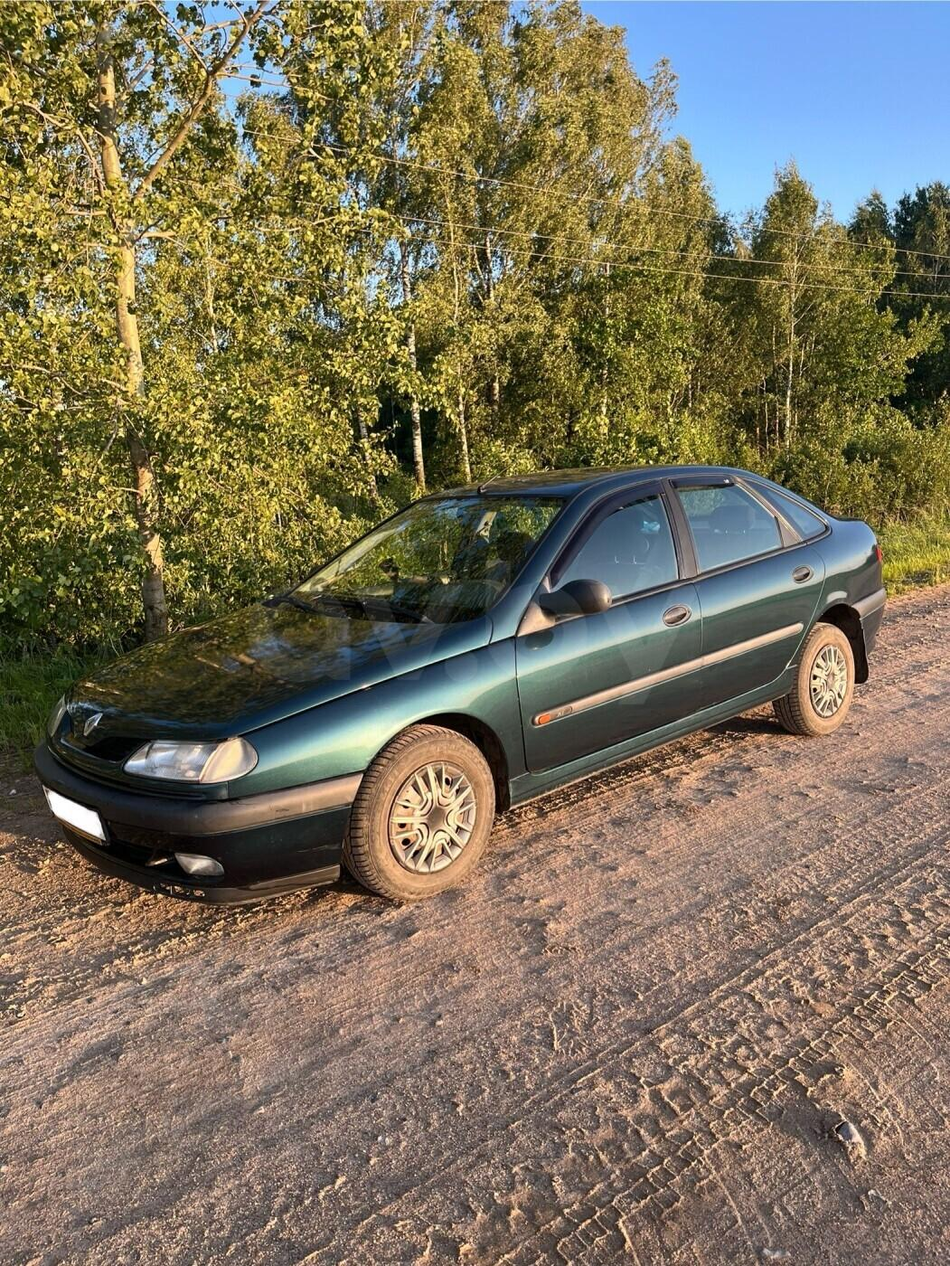Lahuna_1993-1999: (33, 458, 889, 924)
